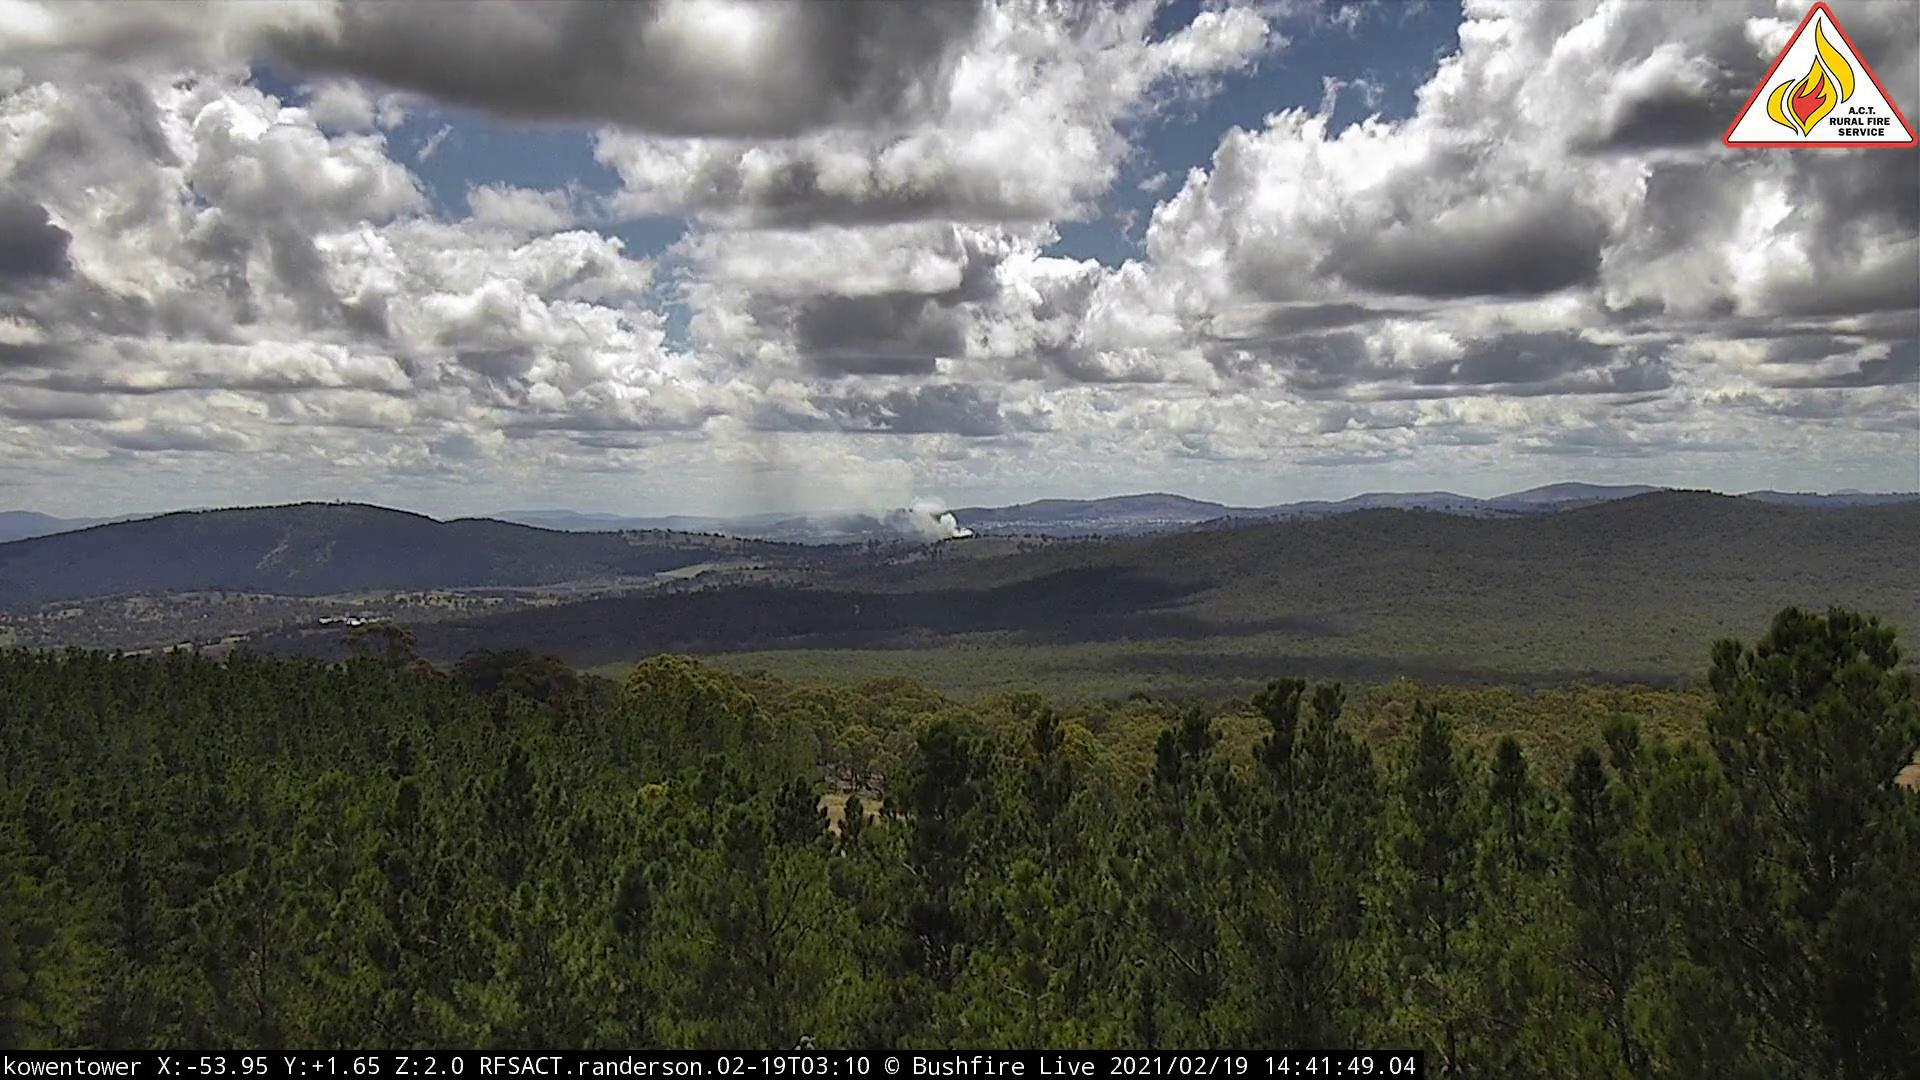Smoke: (707, 440, 978, 549)
